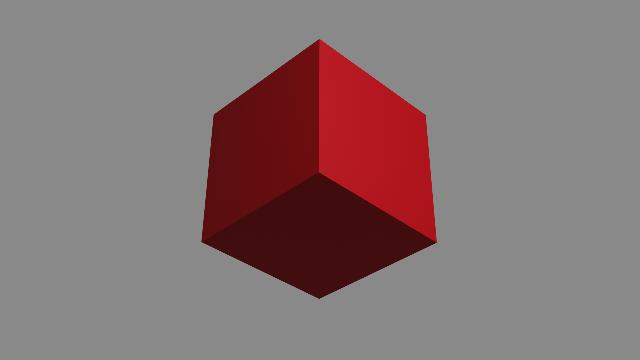Cube: (198, 35, 448, 304)
